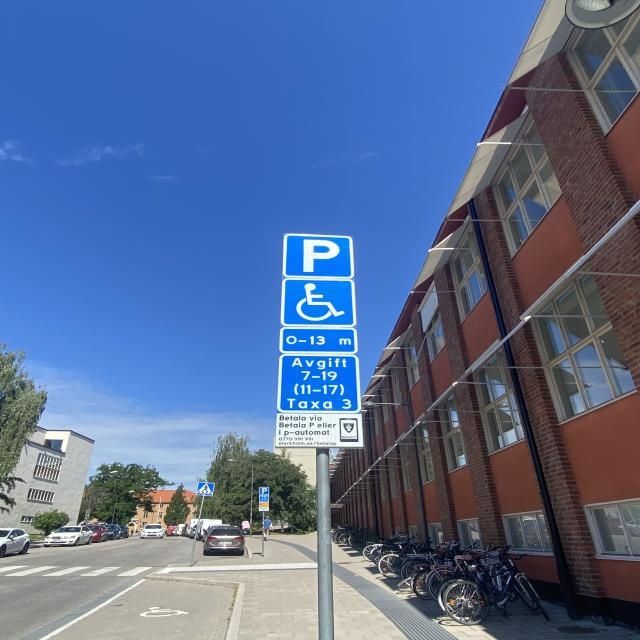P-skylt: (280, 231, 356, 280)
